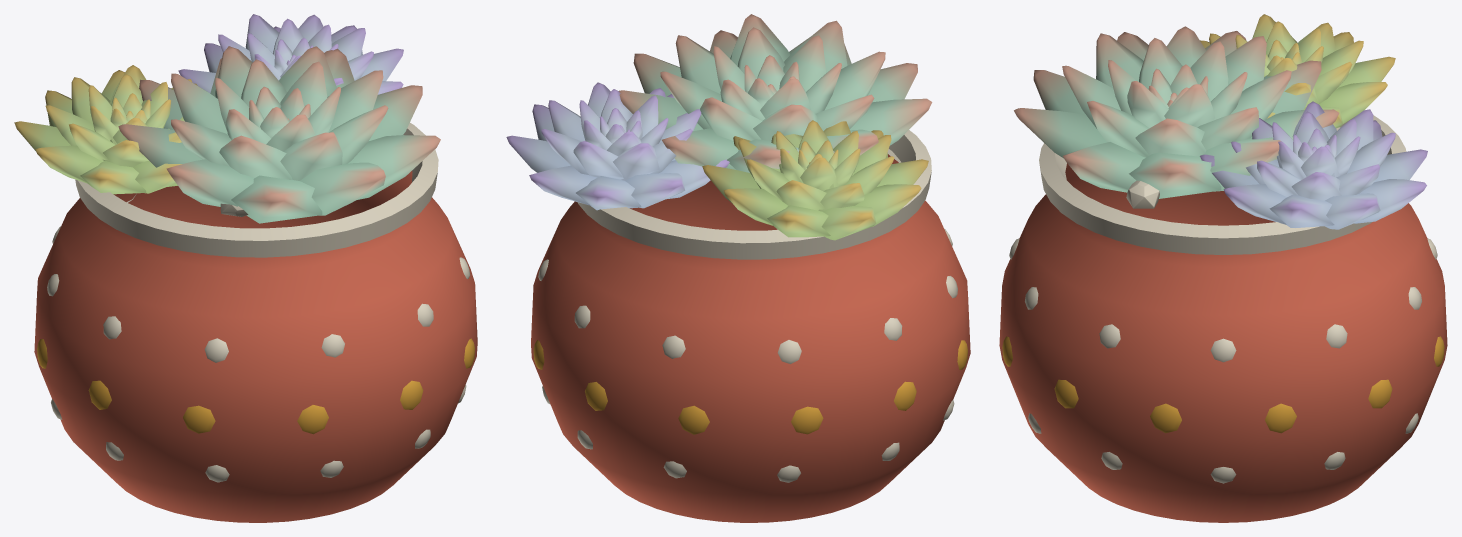
Rendered from potted_succulent_coral.glb.
3 views of the same model, side by side, from view 1: azimuth 30°, elevation 25°; view 2: azimuth 150°, elevation 25°; view 3: azimuth 270°, elevation 25° (orthographic).
Parts seen in each view (by area): view 1: potted_succulent_coral; view 2: potted_succulent_coral; view 3: potted_succulent_coral.
Part boxes in pixels (box(x1,y1,x2,y2)): potted_succulent_coral: box(14, 14, 477, 522); potted_succulent_coral: box(506, 14, 970, 522); potted_succulent_coral: box(999, 14, 1447, 522).
Size of the model in its own units: 0.343 by 0.3494 by 0.34.
